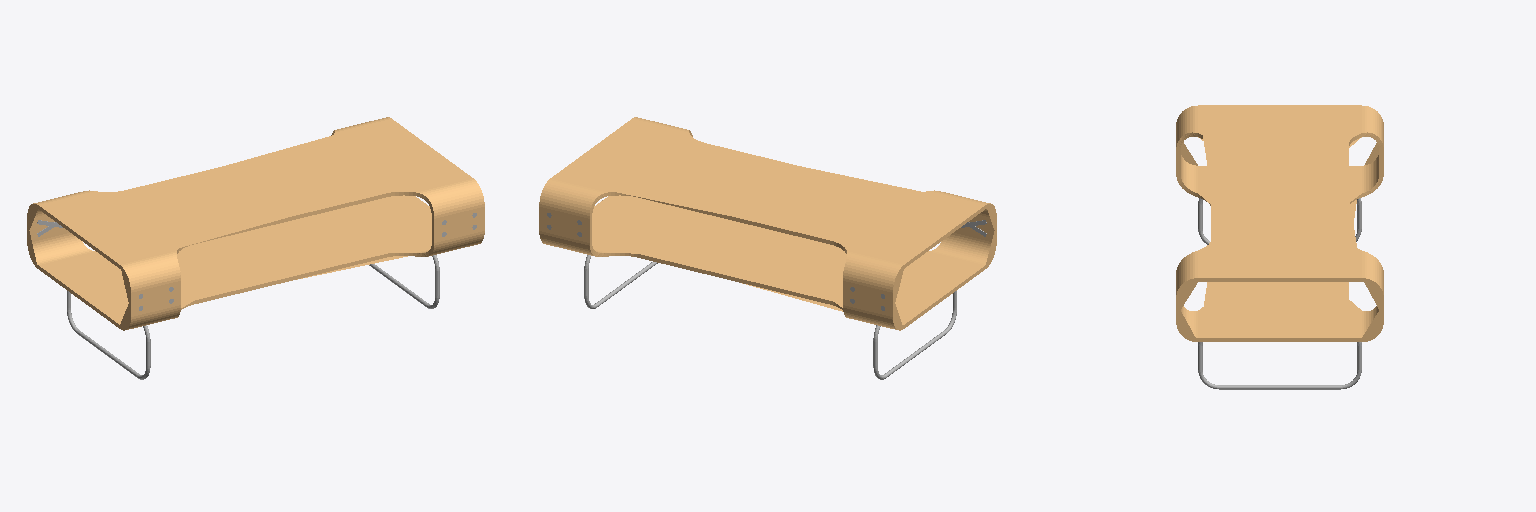
Rendered from Coffee_table.obj.
The picture shows the model from 3 angles: view 1: azimuth 30°, elevation 25°; view 2: azimuth 150°, elevation 25°; view 3: azimuth 270°, elevation 25°; orthographic projection.
Parts seen in each view (by area): view 1: Mesh4 Buskbo1_3 Component_1_2 Group1 BUSKBO_coffee_table1 Model, Mesh1 Buskbo1_1 Component_1_1 Group1 BUSKBO_coffee_table1 Model, Mesh2 Buskbo1_2 Component_1_1 Group1 BUSKBO_coffee_table1 Model, Mesh10 Buskbo1_7 Component_1_4 Group1 BUSKBO_coffee_table1 Model, Mesh7 Buskbo1_5 Component_1_3 Group1 BUSKBO_coffee_table1 Model, Mesh5 Buskbo1_4 Component_1_2 Group1 BUSKBO_coffee_table1 Model, Mesh11 Buskbo1_8 Component_1_4 Group1 BUSKBO_coffee_table1 Model, Mesh8 Buskbo1_6 Component_1_3 Group1 BUSKBO_coffee_table1 Model, Mesh13 Boskbo_Leg1_1 BUSKBO_coffee_table1 Model, Mesh14 Boskbo_Leg1_2 BUSKBO_coffee_table1 Model; view 2: Mesh10 Buskbo1_7 Component_1_4 Group1 BUSKBO_coffee_table1 Model, Mesh7 Buskbo1_5 Component_1_3 Group1 BUSKBO_coffee_table1 Model, Mesh8 Buskbo1_6 Component_1_3 Group1 BUSKBO_coffee_table1 Model, Mesh4 Buskbo1_3 Component_1_2 Group1 BUSKBO_coffee_table1 Model, Mesh1 Buskbo1_1 Component_1_1 Group1 BUSKBO_coffee_table1 Model, Mesh11 Buskbo1_8 Component_1_4 Group1 BUSKBO_coffee_table1 Model, Mesh5 Buskbo1_4 Component_1_2 Group1 BUSKBO_coffee_table1 Model, Mesh2 Buskbo1_2 Component_1_1 Group1 BUSKBO_coffee_table1 Model, Mesh13 Boskbo_Leg1_1 BUSKBO_coffee_table1 Model, Mesh14 Boskbo_Leg1_2 BUSKBO_coffee_table1 Model; view 3: Mesh7 Buskbo1_5 Component_1_3 Group1 BUSKBO_coffee_table1 Model, Mesh1 Buskbo1_1 Component_1_1 Group1 BUSKBO_coffee_table1 Model, Mesh4 Buskbo1_3 Component_1_2 Group1 BUSKBO_coffee_table1 Model, Mesh10 Buskbo1_7 Component_1_4 Group1 BUSKBO_coffee_table1 Model, Mesh2 Buskbo1_2 Component_1_1 Group1 BUSKBO_coffee_table1 Model, Mesh8 Buskbo1_6 Component_1_3 Group1 BUSKBO_coffee_table1 Model, Mesh11 Buskbo1_8 Component_1_4 Group1 BUSKBO_coffee_table1 Model, Mesh5 Buskbo1_4 Component_1_2 Group1 BUSKBO_coffee_table1 Model, Mesh14 Boskbo_Leg1_2 BUSKBO_coffee_table1 Model.
Boxes of the visible parts, x1,y1,x2,y2 form: Mesh4 Buskbo1_3 Component_1_2 Group1 BUSKBO_coffee_table1 Model: [79, 192, 289, 304]; Mesh1 Buskbo1_1 Component_1_1 Group1 BUSKBO_coffee_table1 Model: [257, 149, 484, 230]; Mesh2 Buskbo1_2 Component_1_1 Group1 BUSKBO_coffee_table1 Model: [257, 209, 484, 280]; Mesh10 Buskbo1_7 Component_1_4 Group1 BUSKBO_coffee_table1 Model: [27, 167, 255, 238]; Mesh7 Buskbo1_5 Component_1_3 Group1 BUSKBO_coffee_table1 Model: [222, 117, 432, 191]; Mesh5 Buskbo1_4 Component_1_2 Group1 BUSKBO_coffee_table1 Model: [79, 252, 289, 330]; Mesh11 Buskbo1_8 Component_1_4 Group1 BUSKBO_coffee_table1 Model: [27, 226, 254, 298]; Mesh8 Buskbo1_6 Component_1_3 Group1 BUSKBO_coffee_table1 Model: [233, 197, 429, 251]; Mesh13 Boskbo_Leg1_1 BUSKBO_coffee_table1 Model: [67, 291, 150, 379]; Mesh14 Boskbo_Leg1_2 BUSKBO_coffee_table1 Model: [369, 255, 439, 308]; Mesh10 Buskbo1_7 Component_1_4 Group1 BUSKBO_coffee_table1 Model: [734, 192, 944, 304]; Mesh7 Buskbo1_5 Component_1_3 Group1 BUSKBO_coffee_table1 Model: [539, 149, 766, 230]; Mesh8 Buskbo1_6 Component_1_3 Group1 BUSKBO_coffee_table1 Model: [539, 209, 766, 280]; Mesh4 Buskbo1_3 Component_1_2 Group1 BUSKBO_coffee_table1 Model: [768, 167, 996, 238]; Mesh1 Buskbo1_1 Component_1_1 Group1 BUSKBO_coffee_table1 Model: [591, 117, 801, 191]; Mesh11 Buskbo1_8 Component_1_4 Group1 BUSKBO_coffee_table1 Model: [734, 252, 944, 330]; Mesh5 Buskbo1_4 Component_1_2 Group1 BUSKBO_coffee_table1 Model: [769, 226, 996, 298]; Mesh2 Buskbo1_2 Component_1_1 Group1 BUSKBO_coffee_table1 Model: [594, 196, 790, 251]; Mesh13 Boskbo_Leg1_1 BUSKBO_coffee_table1 Model: [873, 291, 956, 379]; Mesh14 Boskbo_Leg1_2 BUSKBO_coffee_table1 Model: [584, 255, 657, 308]; Mesh7 Buskbo1_5 Component_1_3 Group1 BUSKBO_coffee_table1 Model: [1280, 192, 1383, 309]; Mesh1 Buskbo1_1 Component_1_1 Group1 BUSKBO_coffee_table1 Model: [1176, 192, 1279, 309]; Mesh4 Buskbo1_3 Component_1_2 Group1 BUSKBO_coffee_table1 Model: [1176, 105, 1279, 191]; Mesh10 Buskbo1_7 Component_1_4 Group1 BUSKBO_coffee_table1 Model: [1280, 105, 1383, 191]; Mesh2 Buskbo1_2 Component_1_1 Group1 BUSKBO_coffee_table1 Model: [1176, 282, 1279, 341]; Mesh8 Buskbo1_6 Component_1_3 Group1 BUSKBO_coffee_table1 Model: [1280, 282, 1383, 341]; Mesh11 Buskbo1_8 Component_1_4 Group1 BUSKBO_coffee_table1 Model: [1349, 143, 1383, 223]; Mesh5 Buskbo1_4 Component_1_2 Group1 BUSKBO_coffee_table1 Model: [1176, 142, 1210, 205]; Mesh14 Boskbo_Leg1_2 BUSKBO_coffee_table1 Model: [1198, 342, 1361, 389].
Size of the model in its own units: 1.18 by 0.4096 by 0.6001.